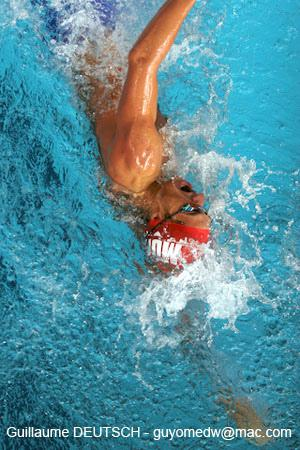human: (60, 2, 210, 286)
